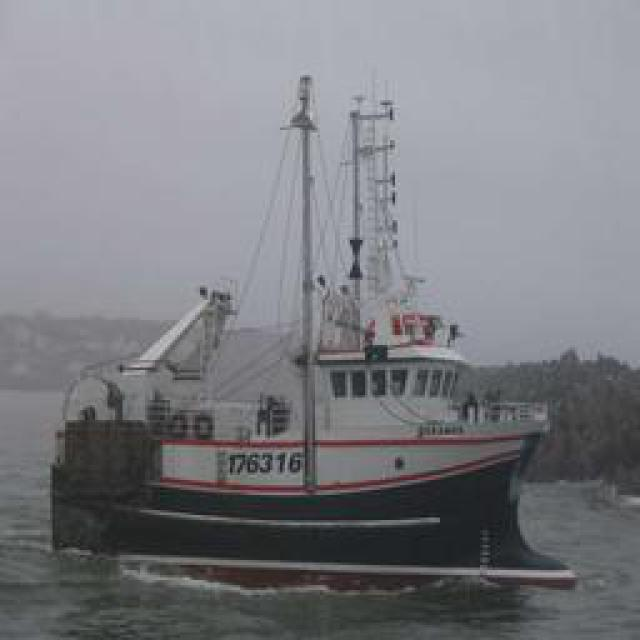Ship: (56, 56, 559, 571)
